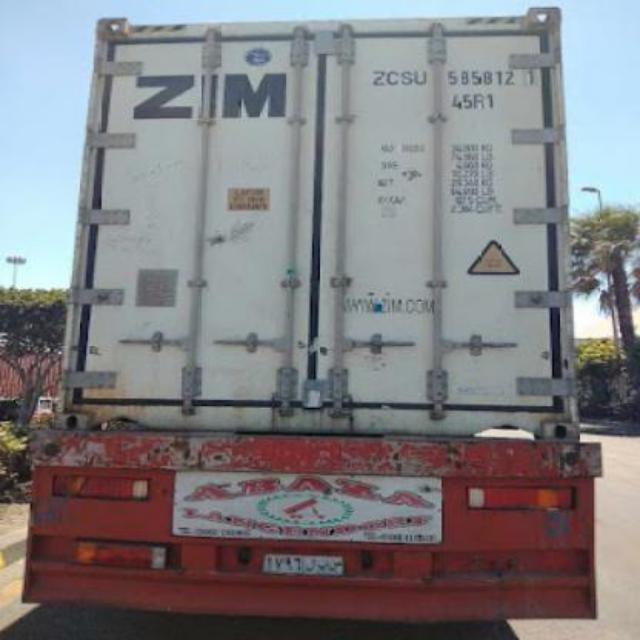1: (524, 64, 540, 86), (494, 62, 504, 88)
2: (504, 66, 518, 86)
5: (442, 66, 458, 86), (470, 65, 482, 85)
8: (481, 63, 494, 87), (460, 66, 470, 88)
C: (386, 64, 398, 86)
S: (402, 66, 412, 90)
U: (412, 63, 428, 87)
Z: (370, 66, 386, 88)
